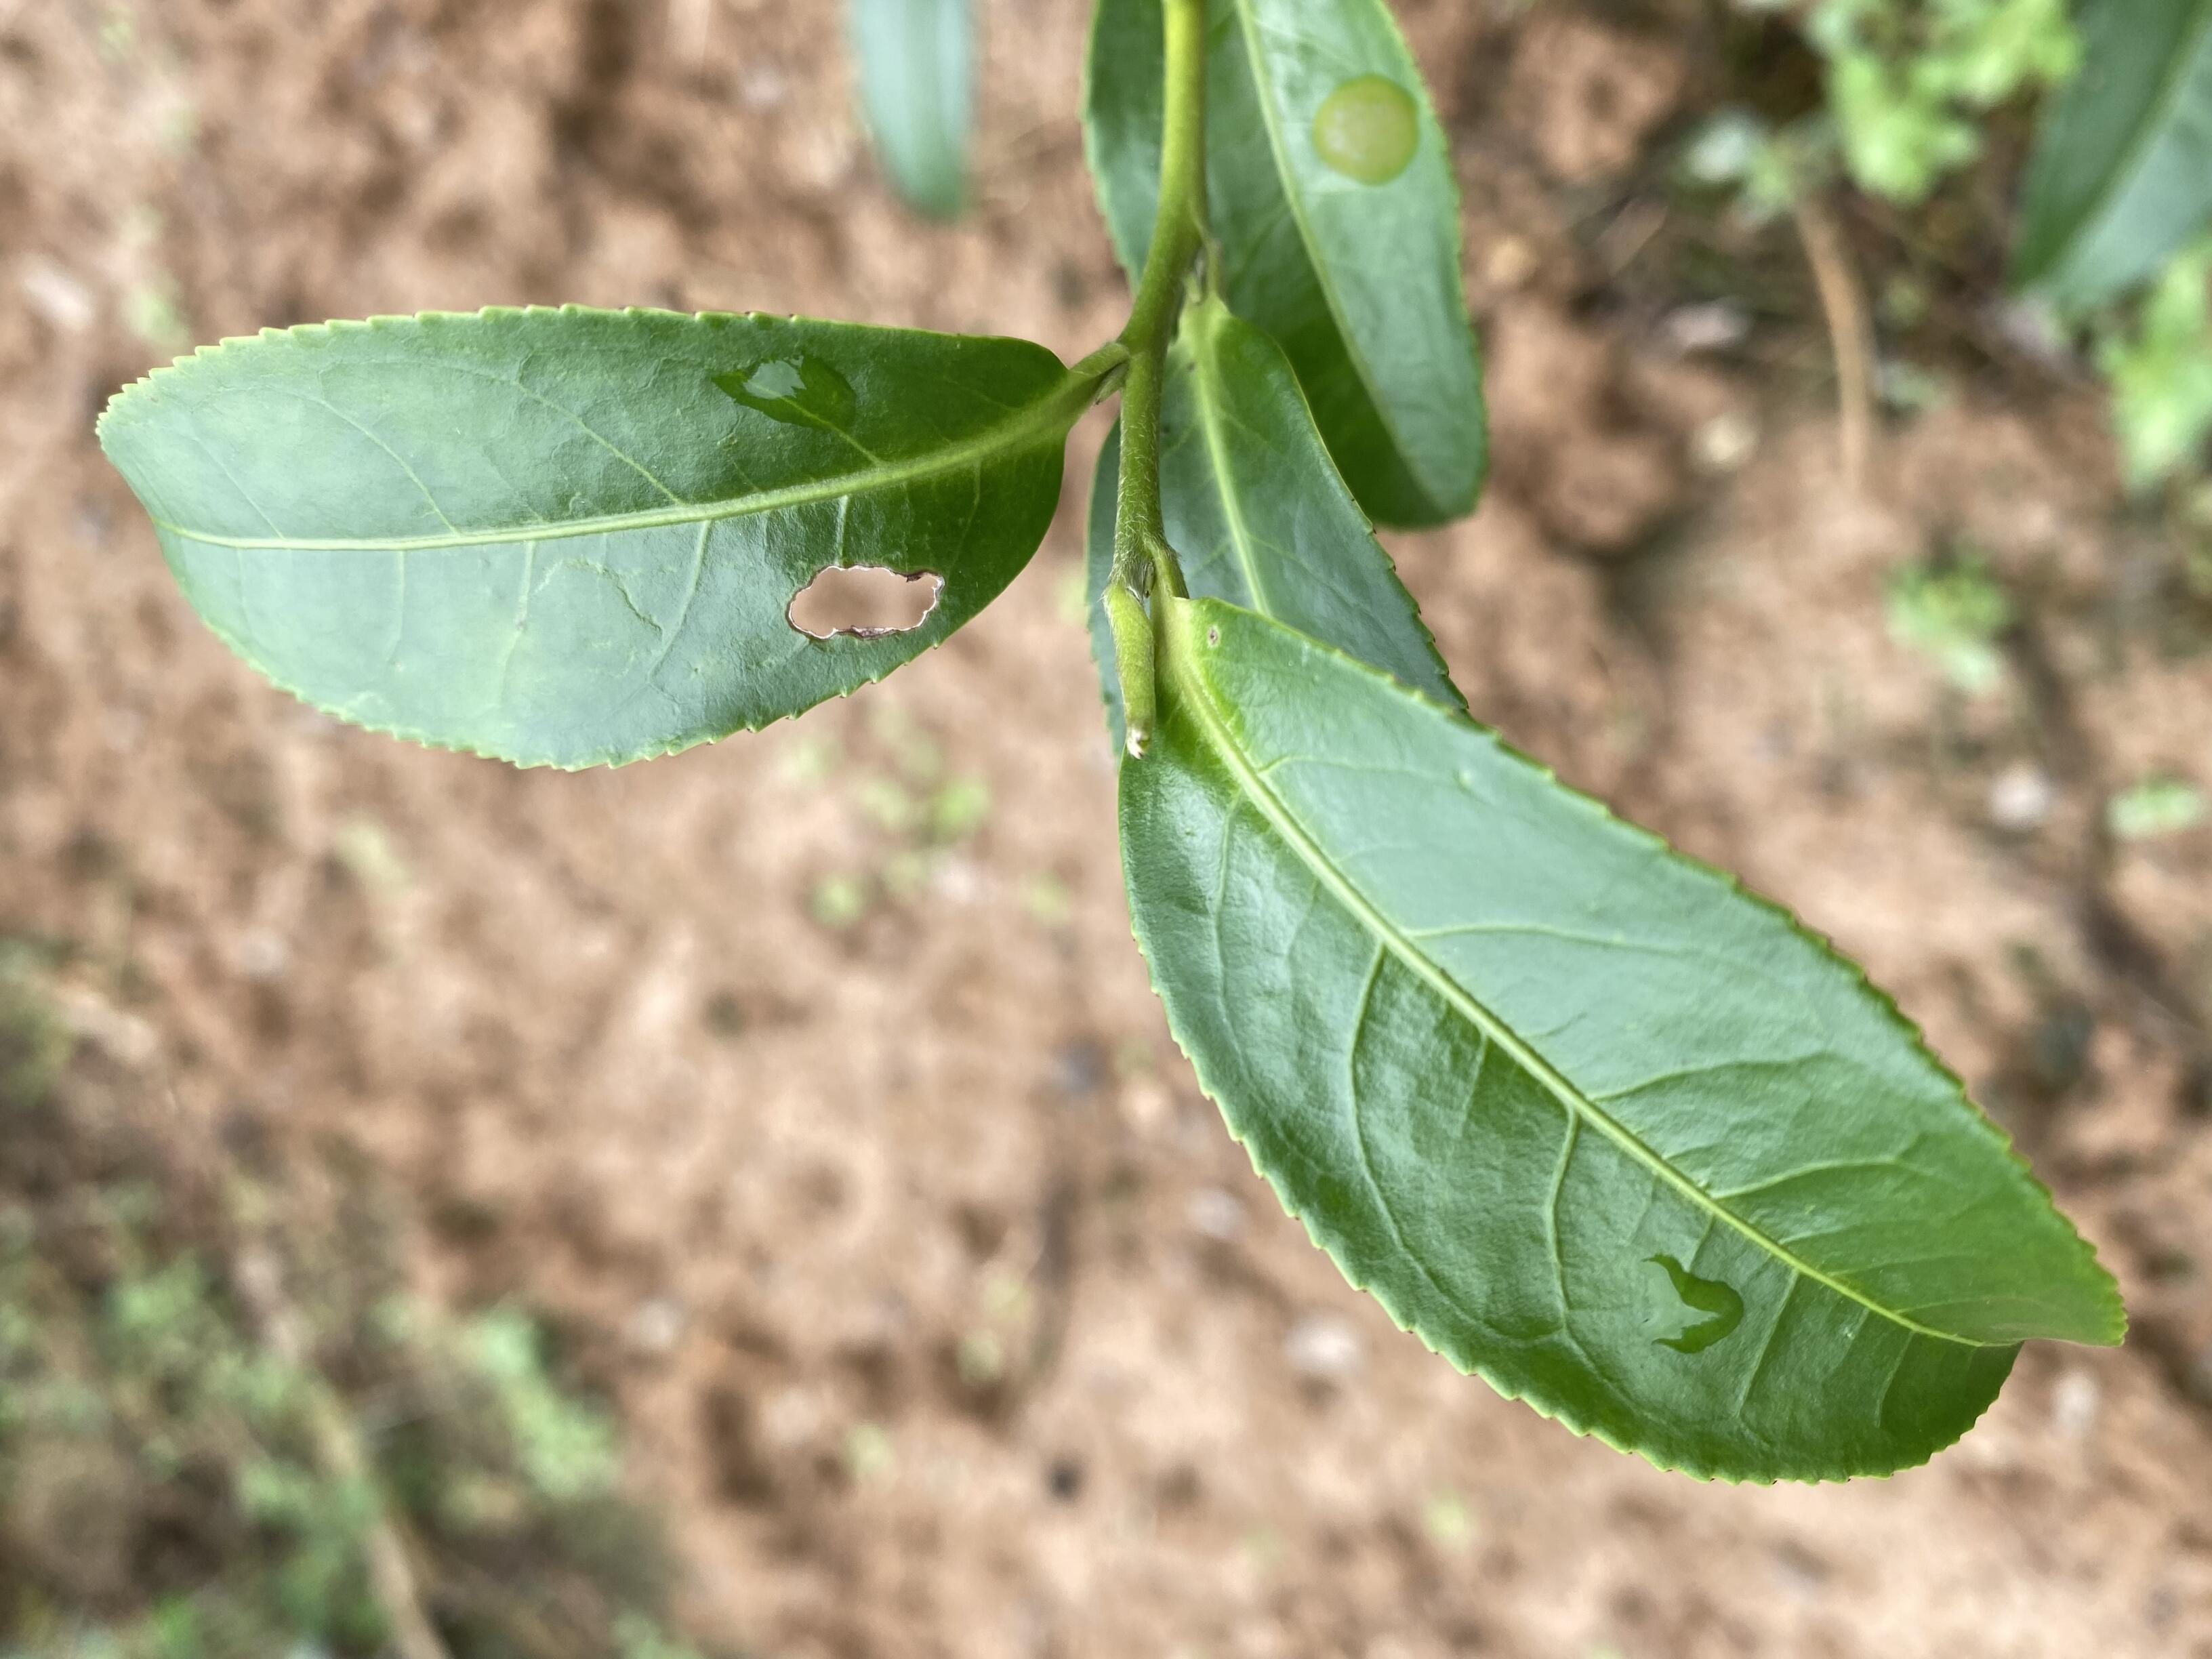chabing_low: (1078, 2, 1486, 535)
chihuo_low: (92, 305, 1078, 774)
healthy: (1118, 598, 2132, 1483)
